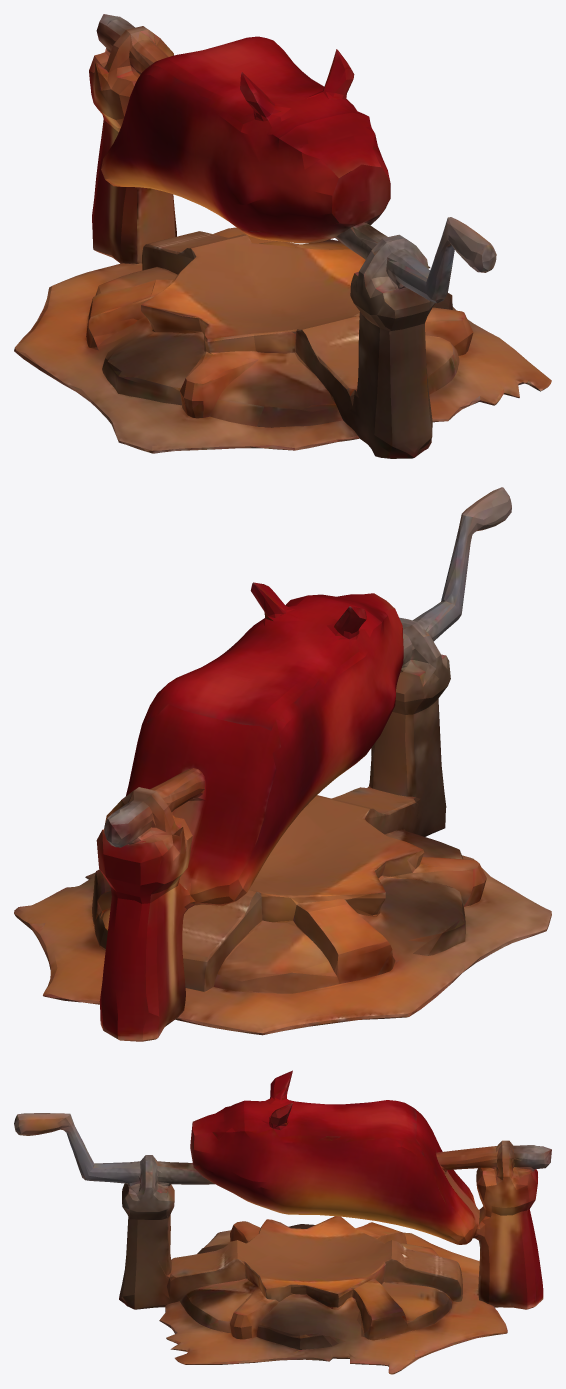
The model's file is army-camp-5.glb.
3 renders of one model, top to bottom at view 1: azimuth 30°, elevation 25°; view 2: azimuth 150°, elevation 25°; view 3: azimuth 270°, elevation 25°, orthographic. The views are drawn at different scales.
Parts seen in each view (by area): view 1: model; view 2: model; view 3: model.
Part boxes in pixels (bbox=[...]): model: bbox=[14, 14, 551, 458]; model: bbox=[14, 487, 551, 1041]; model: bbox=[14, 1070, 551, 1374].
Size of the model in its own units: 1.18 by 0.8444 by 1.9.
1 material, 1 textured.
